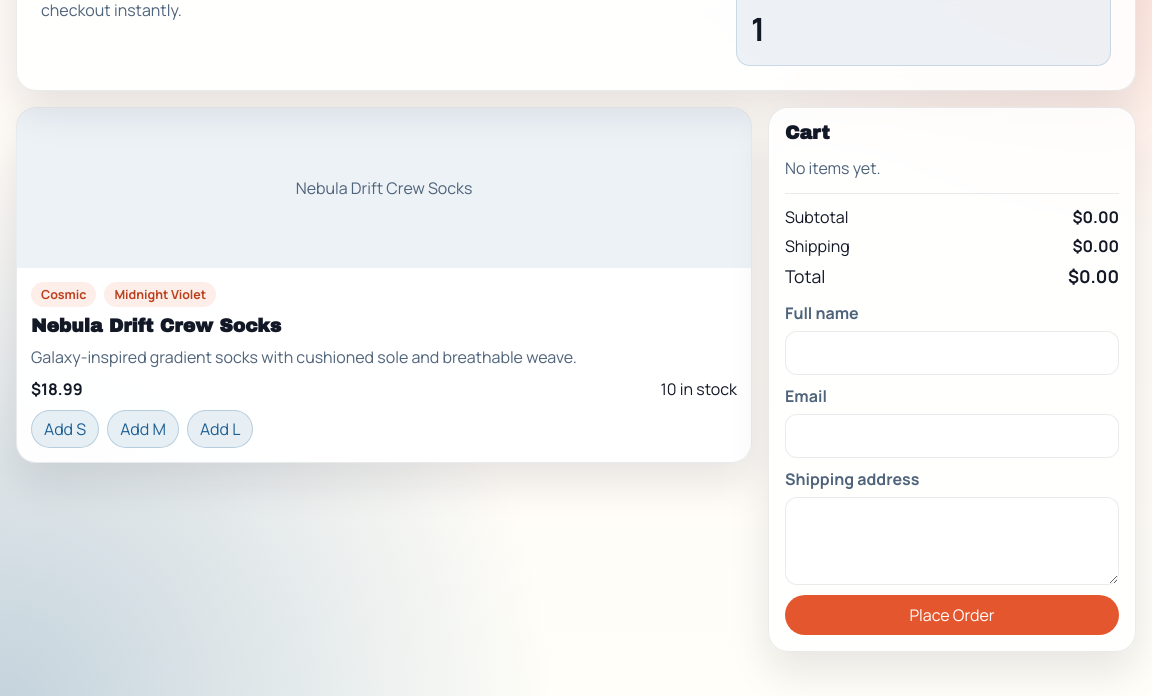
Test: App storefront › renders socks products from API and lets users add to cart
(page scrolled)
Check: the text "Nebula Drift Crew Socks" is shown, box x1=296 y1=177 x2=472 y2=199
Click the button "Add S" at {"x": 65, "y": 429}, box x1=31 y1=410 x2=99 y2=448
(page scrolled)
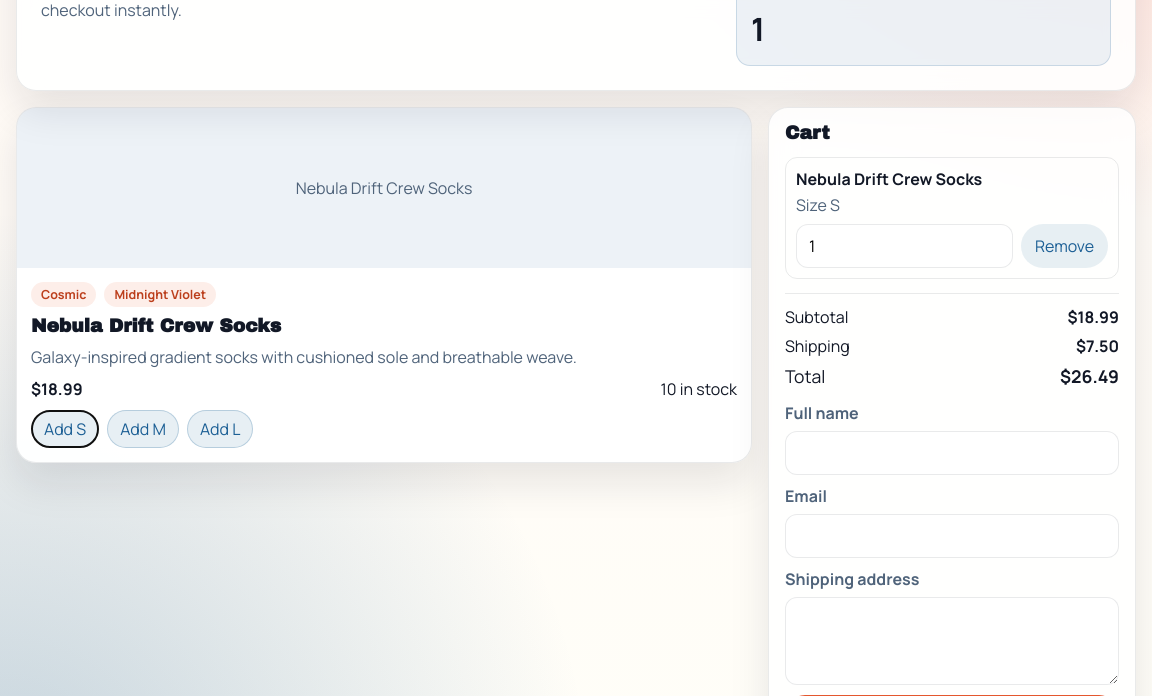
Check: the text "Size S" is shown, box x1=796 y1=194 x2=840 y2=216
